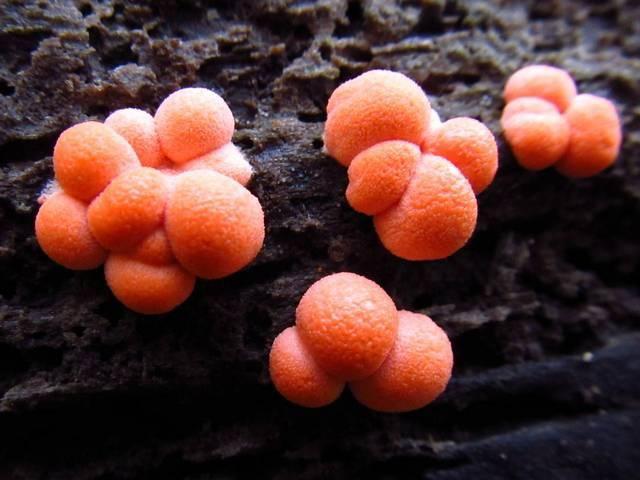poisonous_mushroom: (33, 84, 266, 315), (321, 67, 499, 260), (267, 270, 454, 412), (499, 62, 622, 178), (294, 270, 398, 380), (164, 167, 265, 279), (322, 67, 435, 166), (349, 308, 454, 412), (152, 85, 235, 163)
